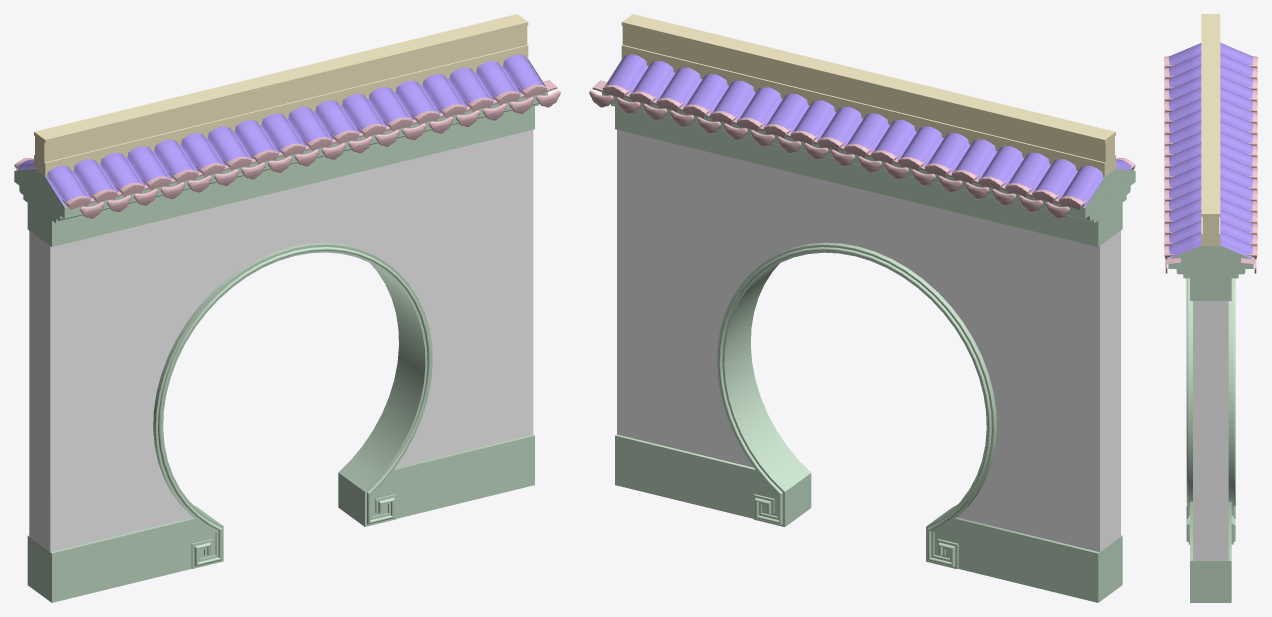
File: Wall_400x300_Door.FBX
3 views of the same model, side by side, from view 1: azimuth 30°, elevation 25°; view 2: azimuth 150°, elevation 25°; view 3: azimuth 270°, elevation 25° (orthographic). The views are drawn at different scales.
Parts seen in each view (by area): view 1: Garden_Wall_400x300_Door_A_LOD00; view 2: Garden_Wall_400x300_Door_A_LOD00; view 3: Garden_Wall_400x300_Door_A_LOD00.
Boxes of the visible parts, x1,y1,x2,y2 form: Garden_Wall_400x300_Door_A_LOD00: (14,14,560,602); Garden_Wall_400x300_Door_A_LOD00: (589,14,1135,602); Garden_Wall_400x300_Door_A_LOD00: (1164,14,1257,602).
Size of what is drawn, in the model's own units: 410 by 363 by 79.31.
